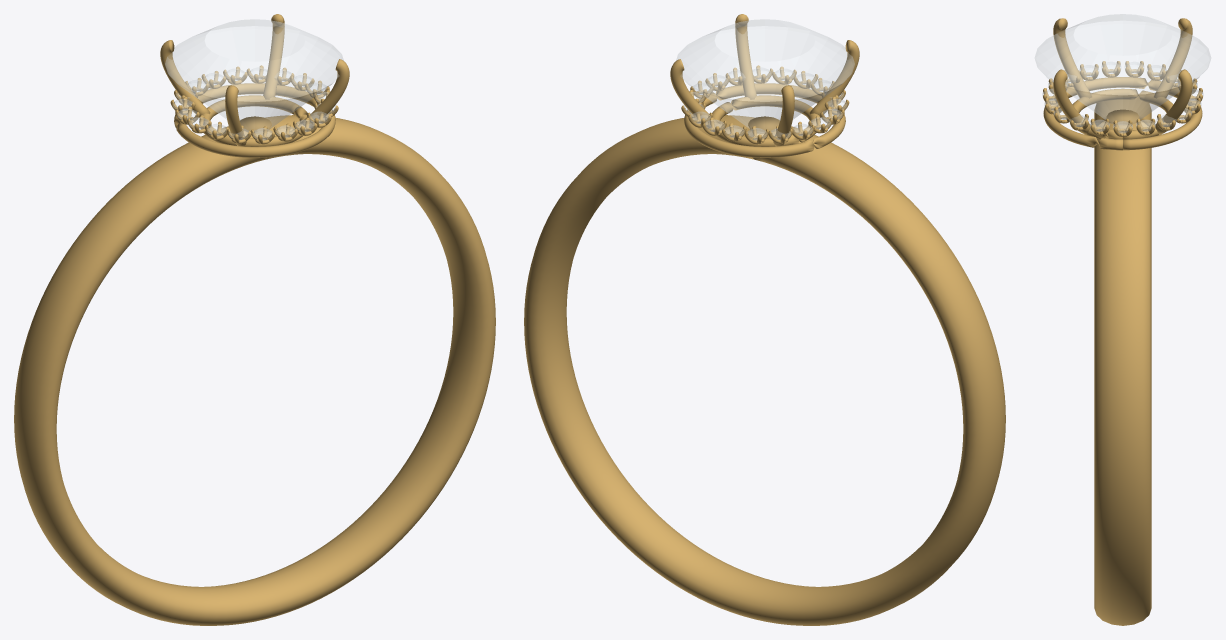
File: layouts-hidden-halo.glb
3 renders of one model, left to right at view 1: azimuth 30°, elevation 25°; view 2: azimuth 150°, elevation 25°; view 3: azimuth 270°, elevation 25°, orthographic.
Parts seen in each view (by area): view 1: Band, Gem, Bezel rim, Lower gallery, Prong, Prong.001, Prong.003, Prong.002; view 2: Band, Gem, Bezel rim, Lower gallery, Prong.003, Prong.002, Prong, Prong.001; view 3: Band, Gem, Bezel rim, Lower gallery, Prong.001, Prong.002, Prong, Prong.003, Head stem.
Boxes of the visible parts, box(x1,y1,x2,y2) form: Band: box(14, 115, 495, 625); Gem: box(165, 19, 343, 130); Bezel rim: box(174, 83, 335, 157); Lower gallery: box(199, 95, 307, 146); Prong: box(263, 14, 284, 99); Prong.001: box(160, 40, 210, 117); Prong.003: box(299, 59, 349, 131); Prong.002: box(225, 85, 246, 146); Band: box(524, 115, 1005, 625); Gem: box(676, 19, 854, 130); Bezel rim: box(684, 83, 845, 157); Lower gallery: box(712, 95, 820, 146); Prong.003: box(735, 14, 756, 99); Prong.002: box(809, 40, 859, 117); Prong: box(670, 59, 720, 131); Prong.001: box(773, 85, 794, 146); Band: box(1094, 97, 1151, 625); Gem: box(1035, 14, 1210, 123); Bezel rim: box(1043, 77, 1202, 150); Lower gallery: box(1072, 88, 1173, 139); Prong.001: box(1154, 18, 1192, 98); Prong.002: box(1053, 18, 1091, 98); Prong: box(1155, 69, 1192, 134); Prong.003: box(1053, 69, 1090, 134); Head stem: box(1106, 109, 1139, 124).
Size of the model in its own units: 19.6 by 22.94 by 6.5.
